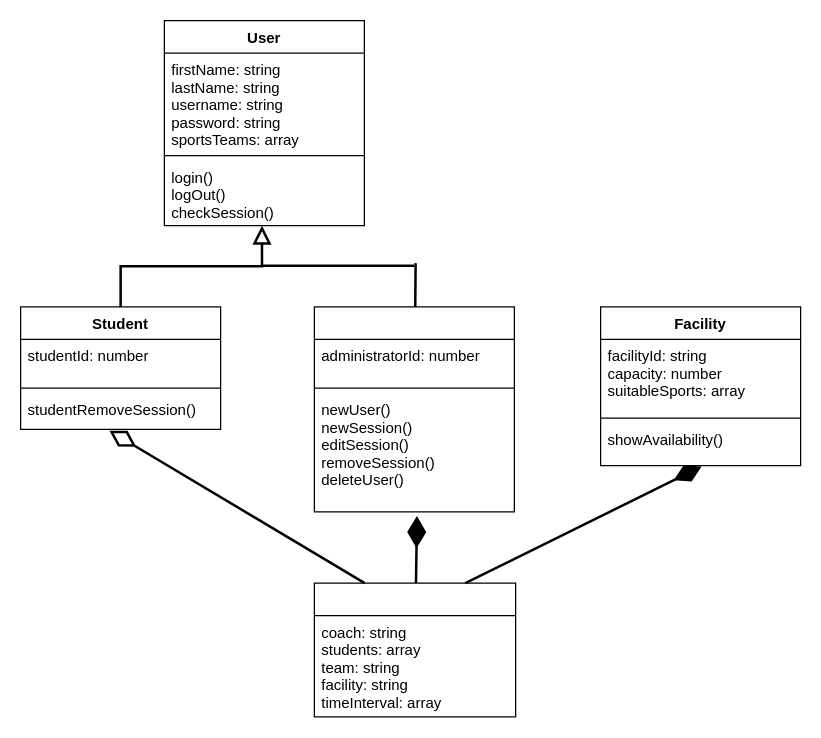
This 821x738 diagram has some shape labels left out. The shapes that lost their labels are listed below. From the top down, each one's box as (x1, y1, x2, y2) in pixels, then its label:
(313, 306, 514, 512): Coach
(313, 582, 516, 717): TrainingSession
